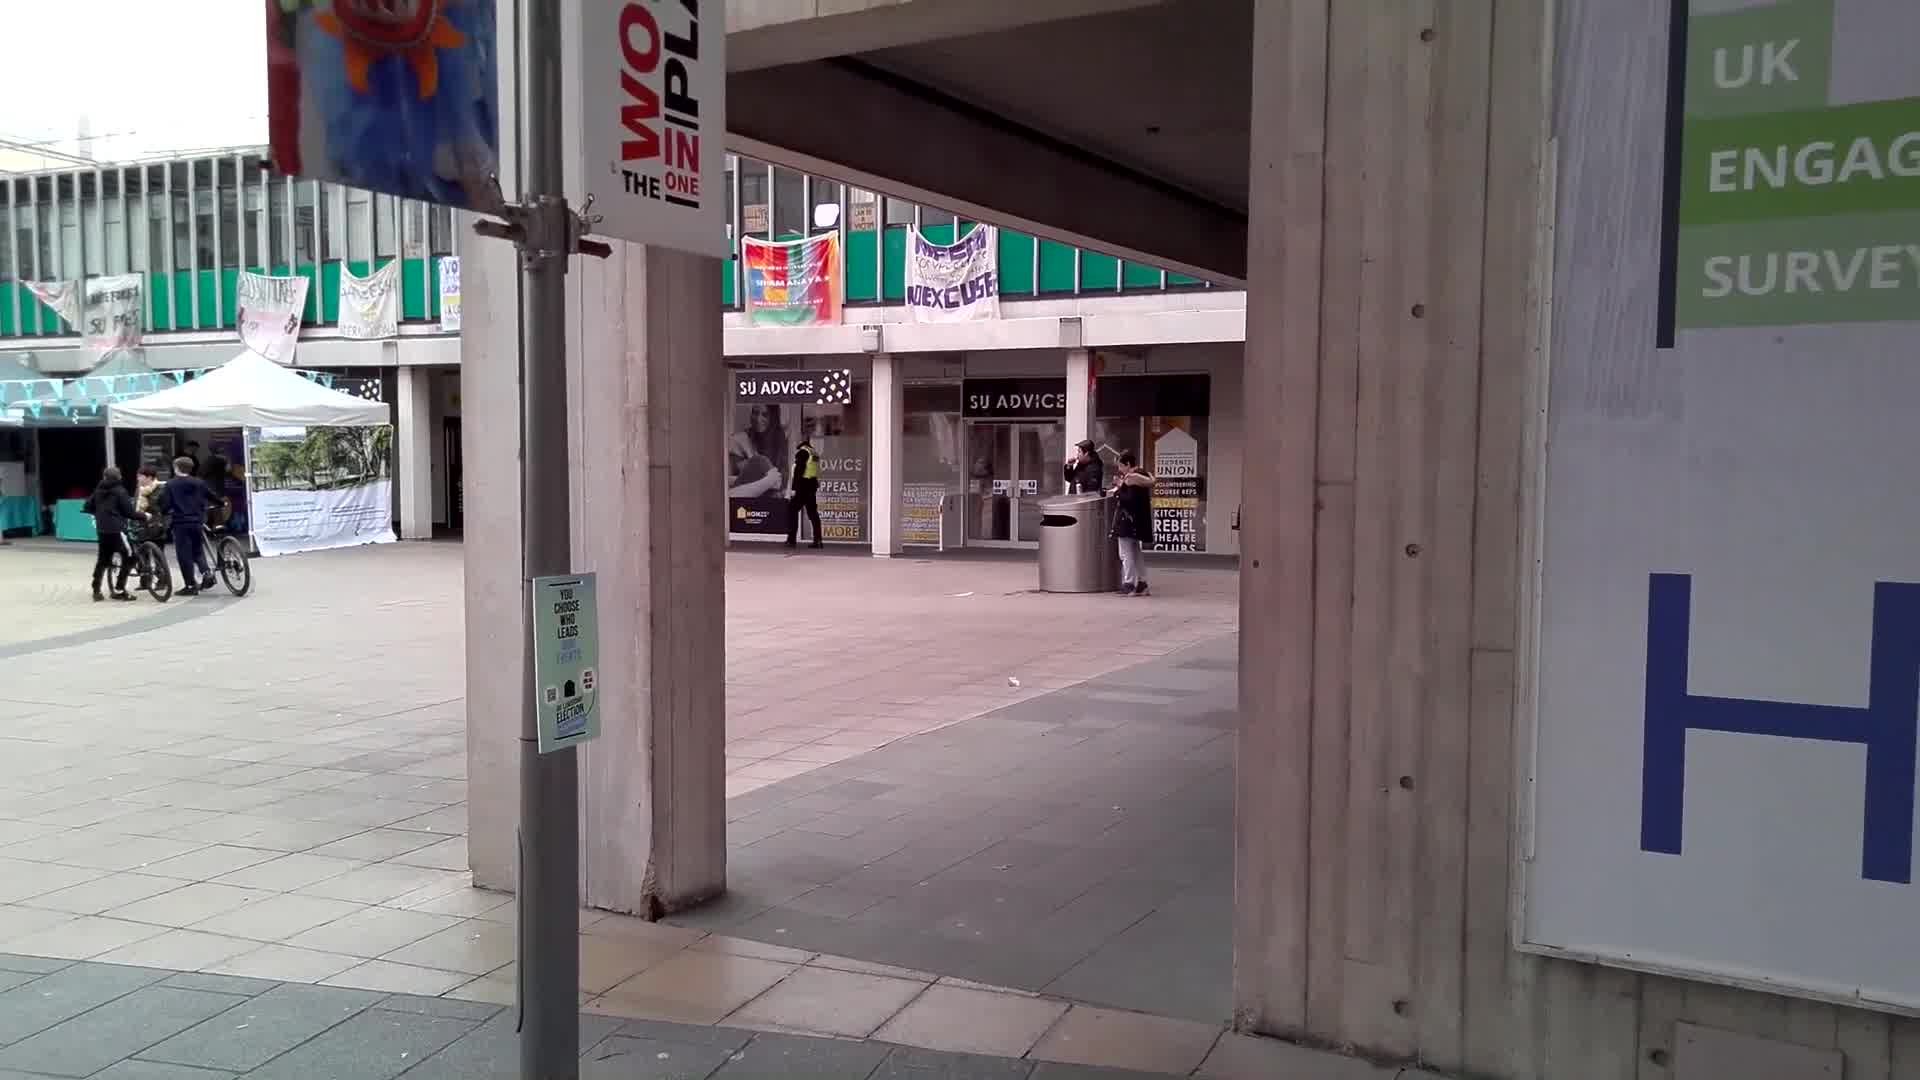Bin: (1040, 490, 1112, 599)
Person: (1112, 449, 1156, 602), (165, 458, 210, 595), (96, 461, 128, 605), (790, 433, 824, 557), (1065, 439, 1100, 494)
